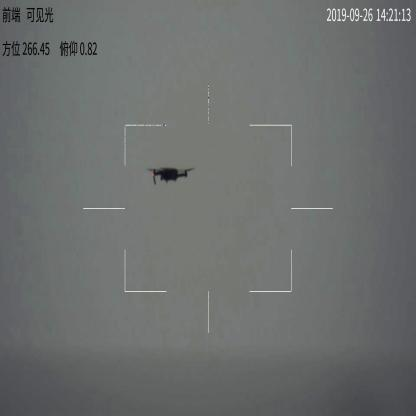uav: (146, 158, 196, 188)
